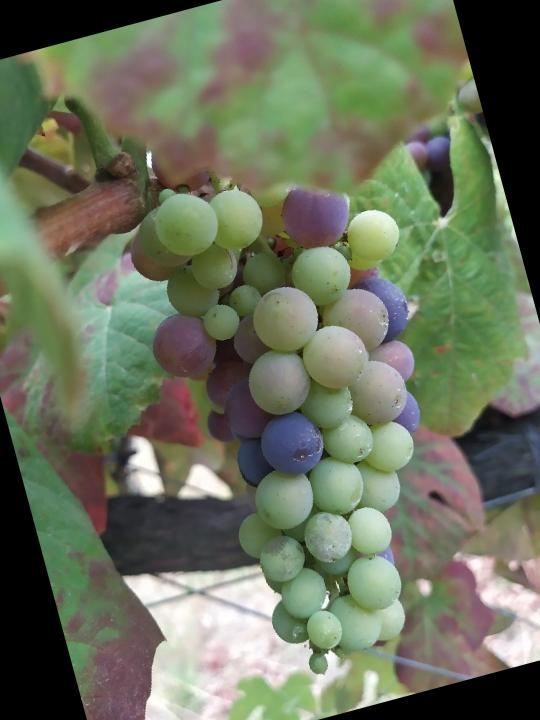grape: (112, 136, 508, 701)
